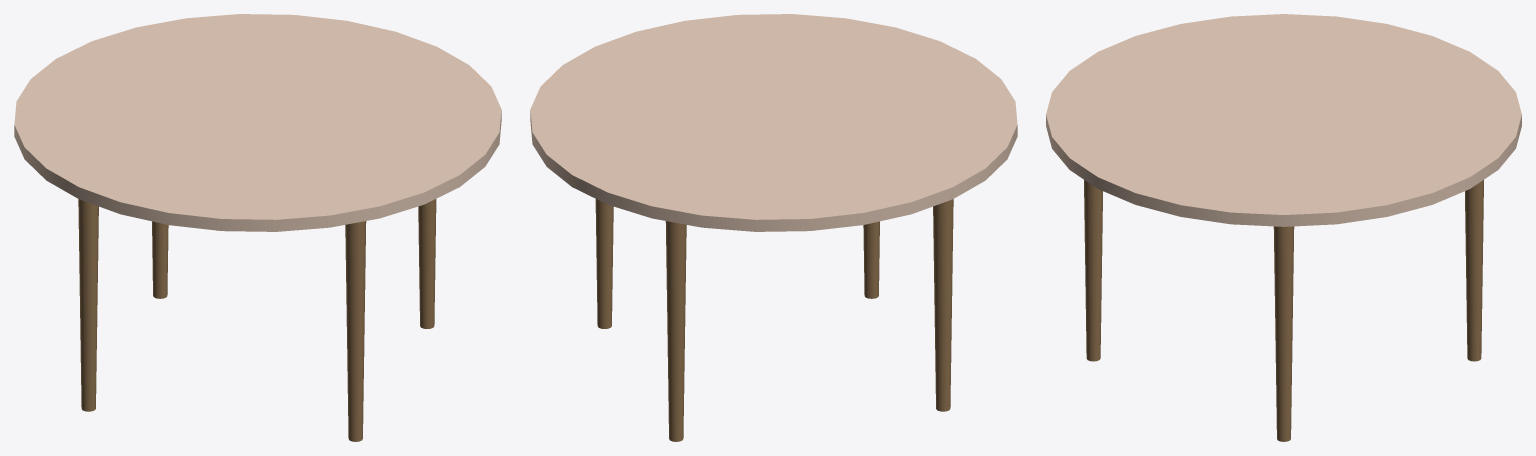
The model's file is table_kitchen.fbx.
3 renders of one model, left to right at view 1: azimuth 30°, elevation 25°; view 2: azimuth 150°, elevation 25°; view 3: azimuth 270°, elevation 25°, orthographic. The views are drawn at different scales.
Parts seen in each view (by area): view 1: table_kitchen; view 2: table_kitchen; view 3: table_kitchen.
Boxes of the visible parts, box(x1,y1,x2,y2) form: table_kitchen: box(14, 14, 501, 441); table_kitchen: box(530, 14, 1017, 441); table_kitchen: box(1046, 14, 1521, 441).
Bounding box in the file's own units: 146 × 82.6 × 146.
